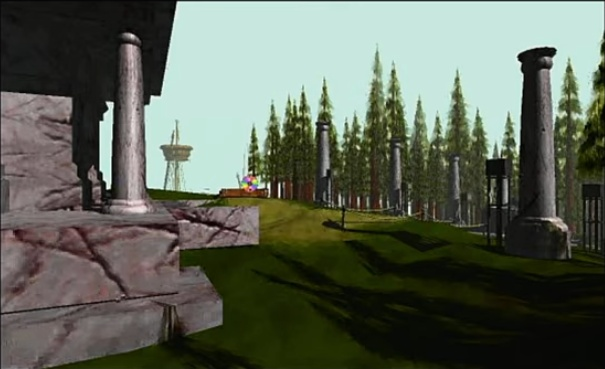Waiting: (239, 170, 263, 193)
